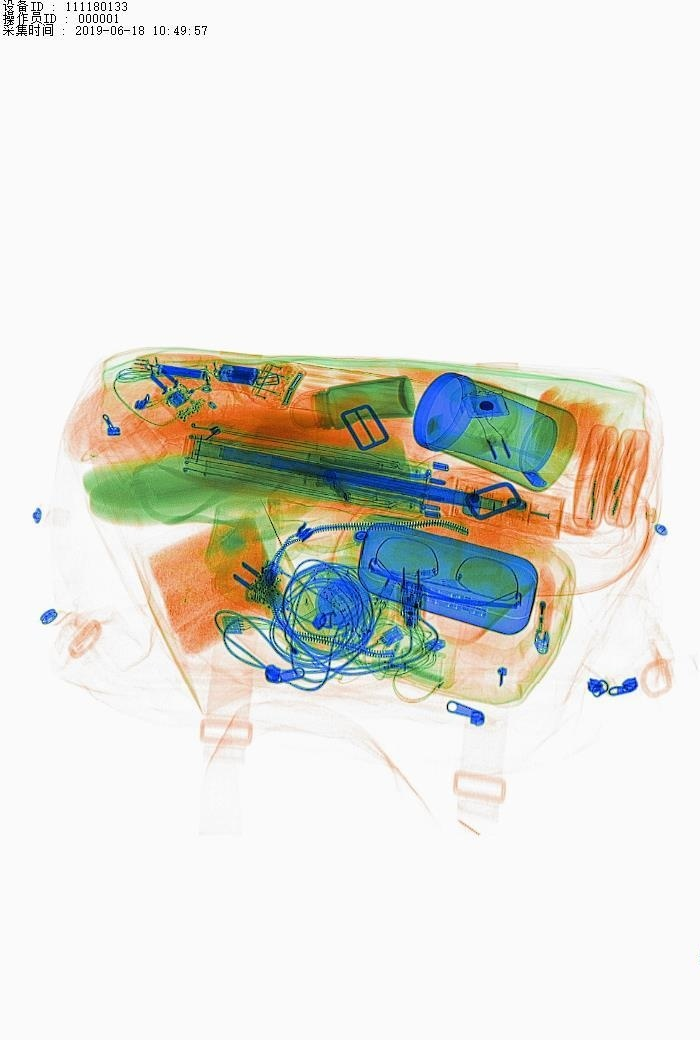NonmetallicFire: (523, 560, 567, 666)
